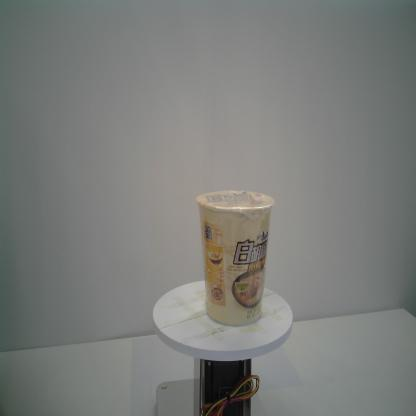Instant Noodles: (196, 190, 276, 328)
